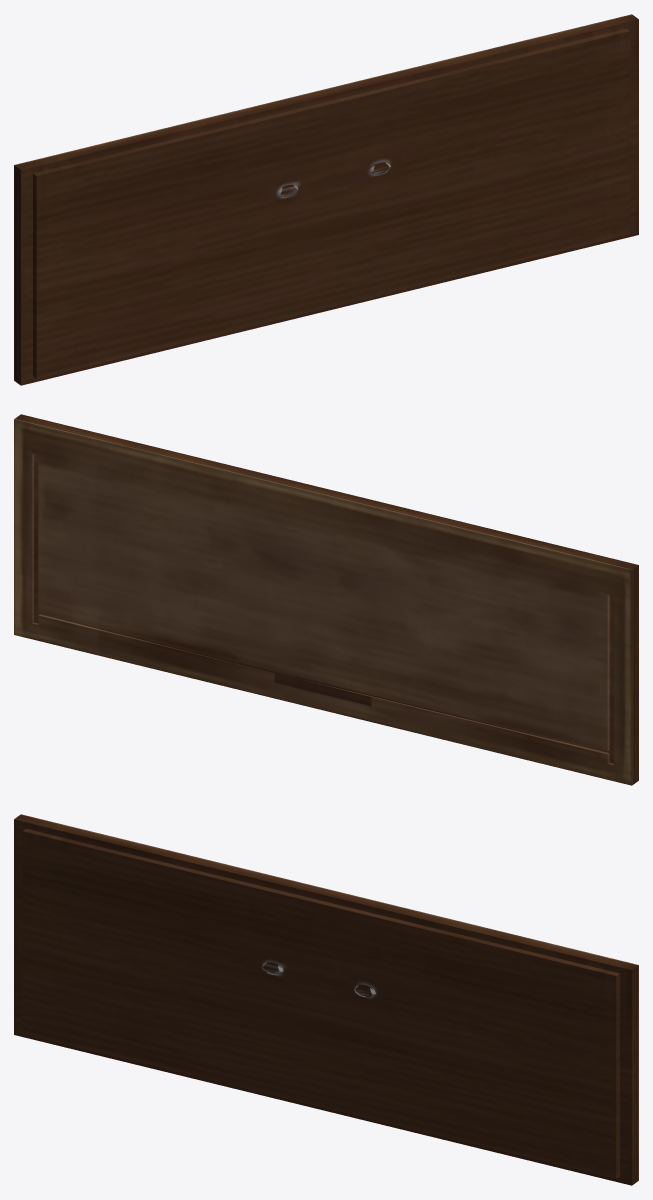
File: link_3__drawer_front-123.glb
3 renders of one model, top to bottom at view 1: azimuth 30°, elevation 25°; view 2: azimuth 150°, elevation 25°; view 3: azimuth 330°, elevation 25°, orthographic.
Visible parts, largest first — view 1: geometry_0; view 2: geometry_0; view 3: geometry_0.
Boxes of the visible parts, x1,y1,x2,y2 form: geometry_0: (14,14,638,385); geometry_0: (14,414,638,785); geometry_0: (14,814,638,1185).
Size of the model in its own units: 0.5356 by 0.1785 by 0.0196.
Materials: 1 (1 with a texture image).
